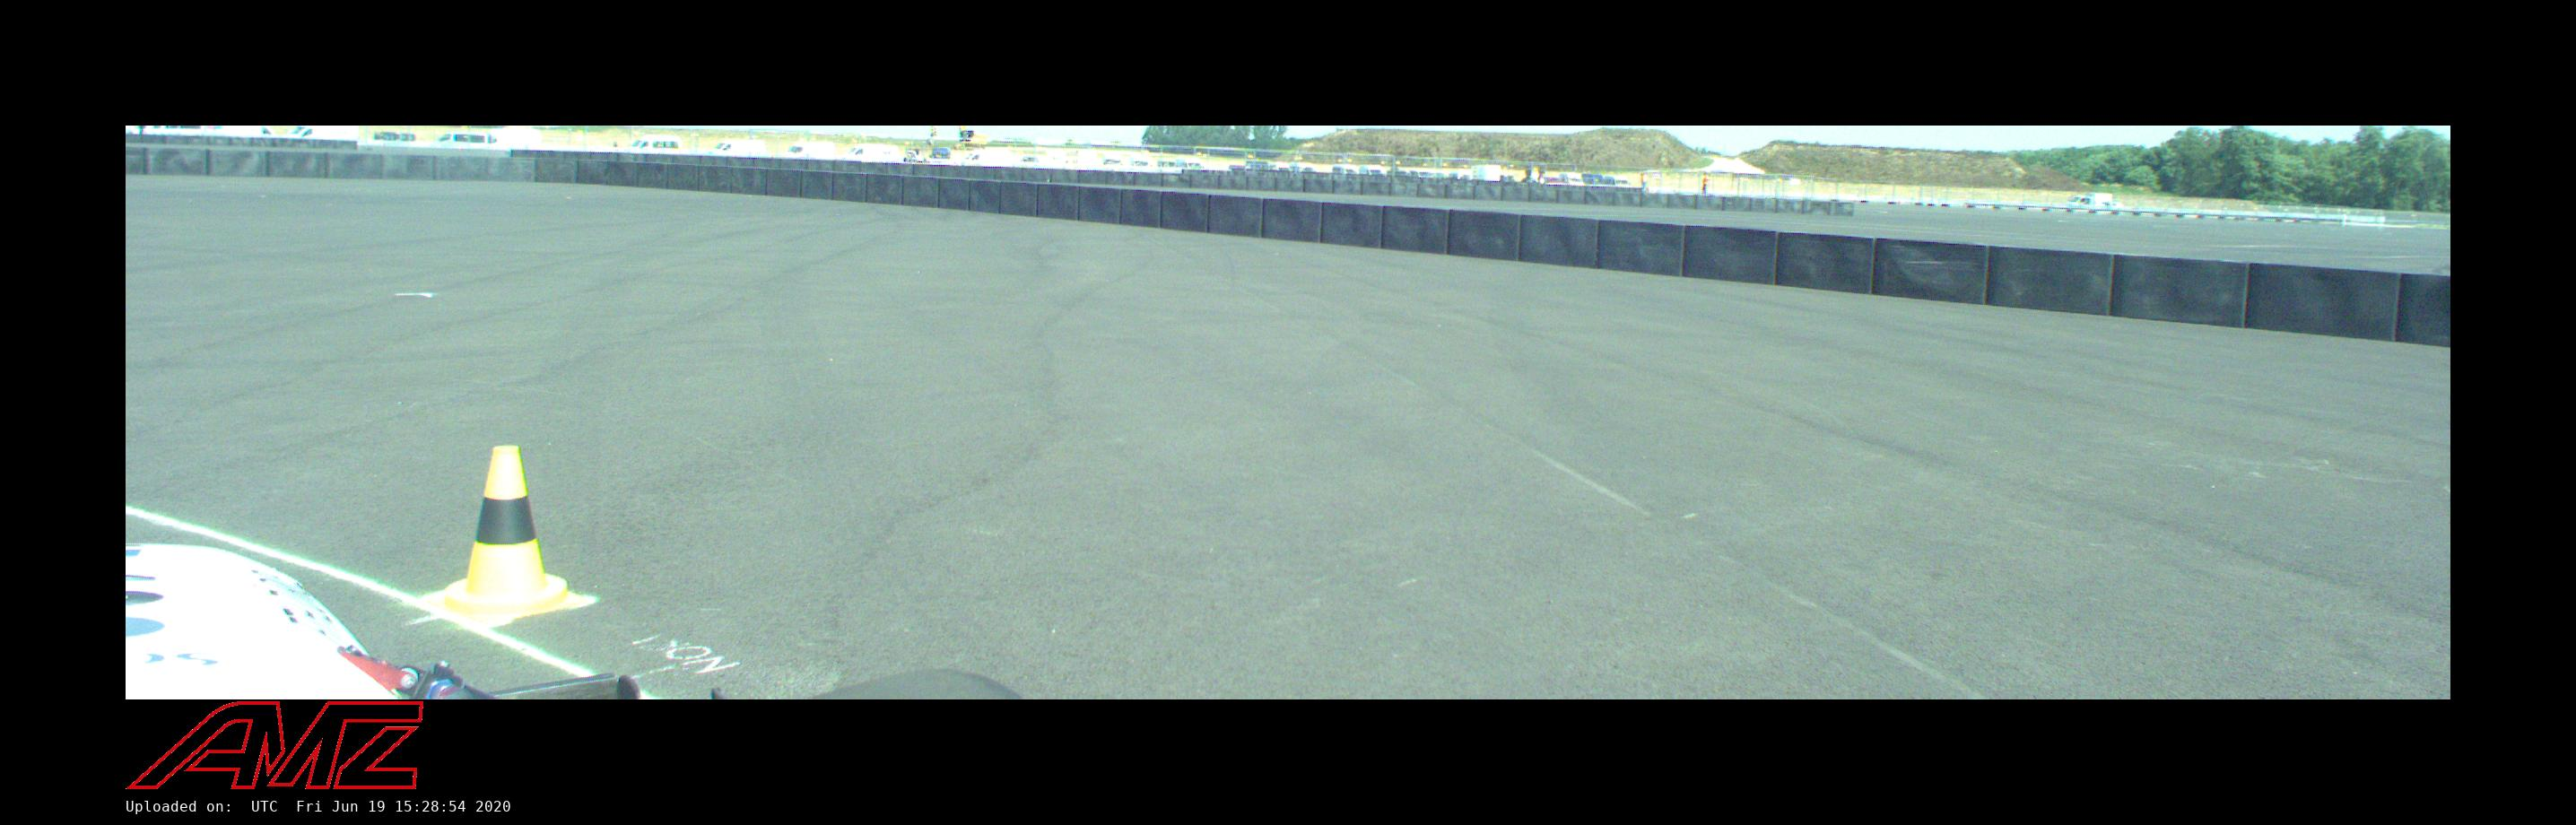yellow_cone: (426, 446, 590, 624)
